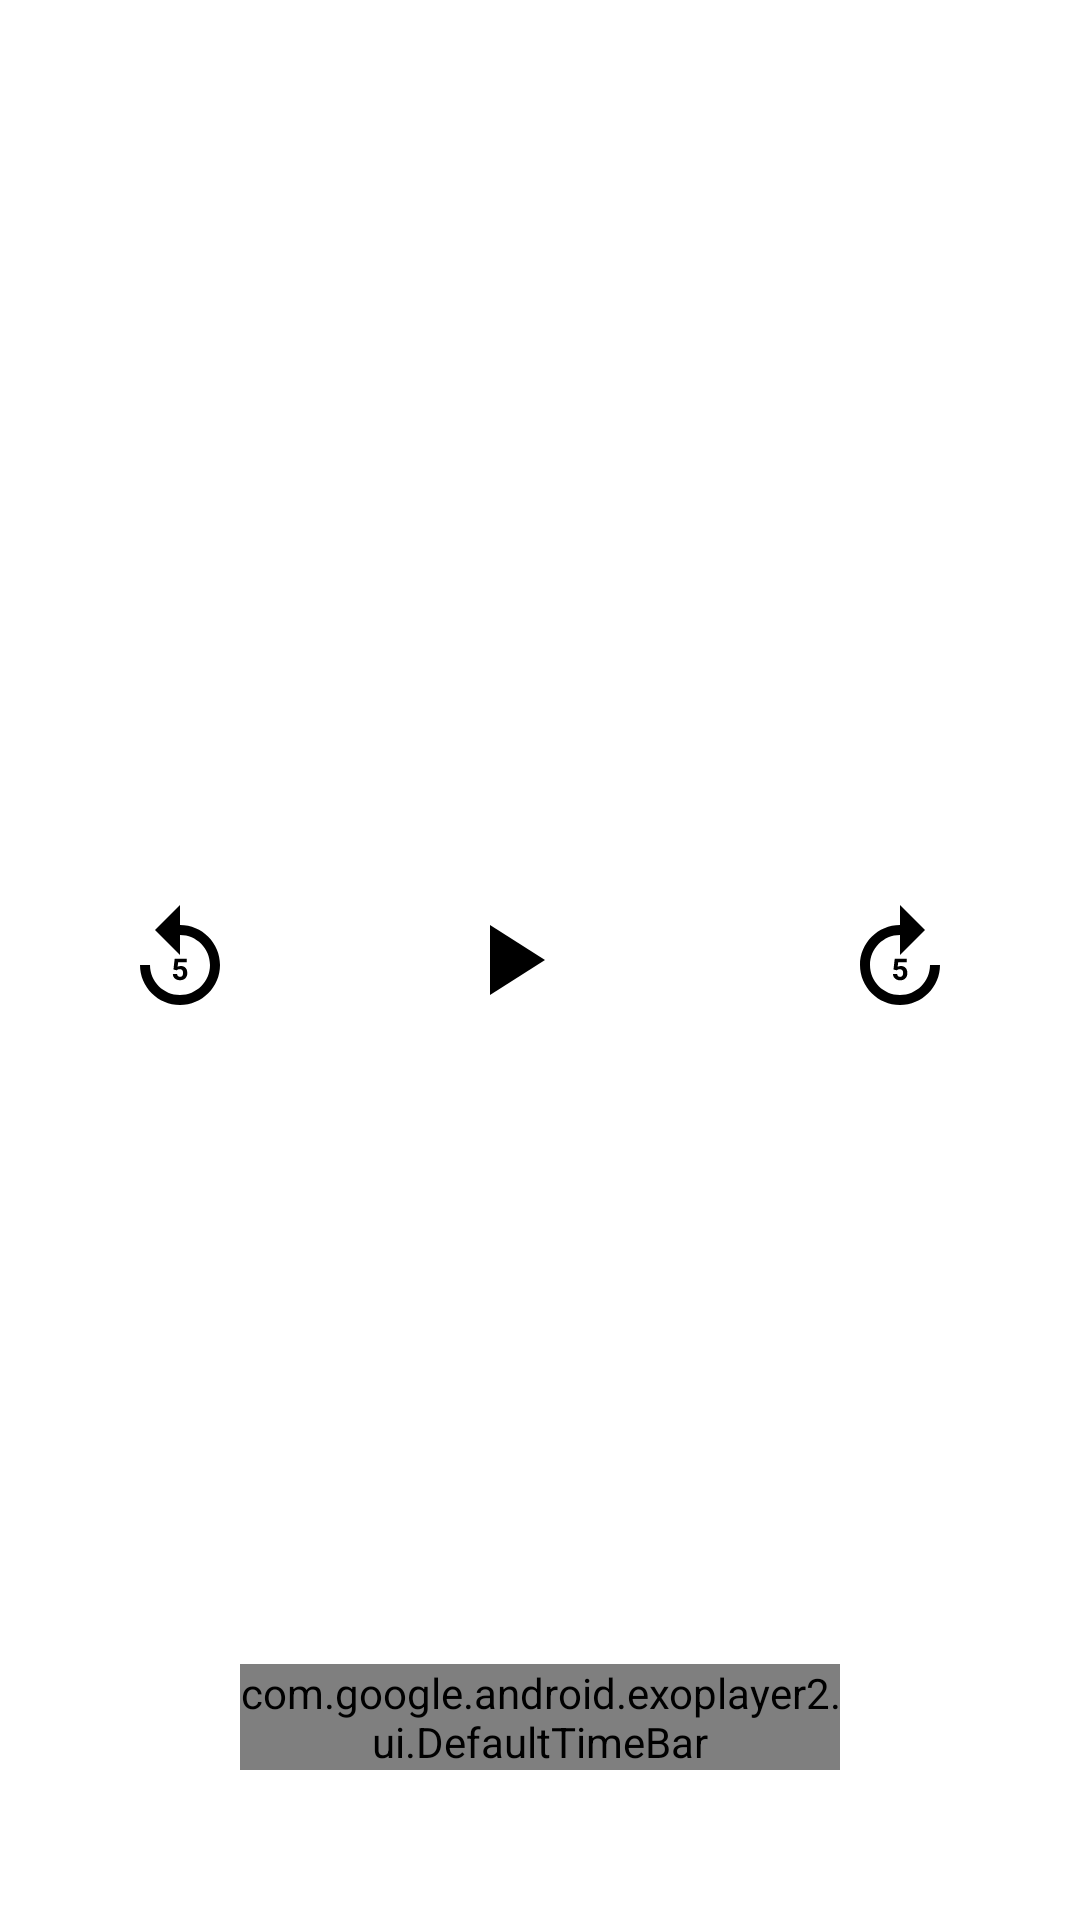

Screen size 1080x1920. Icon name, then its center in pixels as (x=x, y=y):
forward: (x=900, y=955)
play arrow: (x=517, y=960)
replay: (x=180, y=955)
